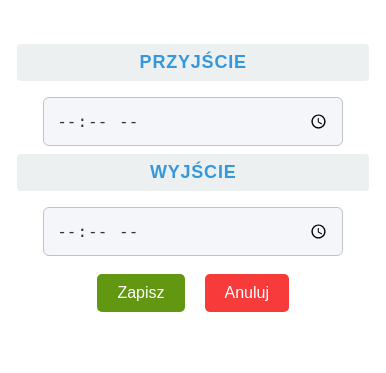
Test case: TimesInput › display error message when no check-in and check-out values were provided and save button was clicked
The width and height of the screenshot is (386, 373).
Click the button with test id "times-input-save-button": (141, 293) [97, 274, 184, 312]
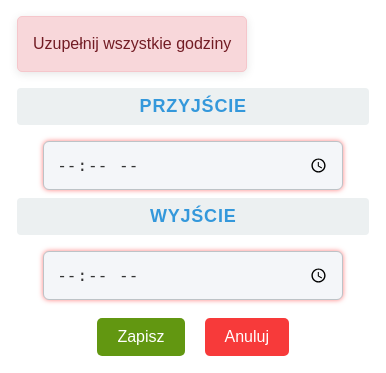
Check: the element with test id "times-input-error" is shown, box [17, 16, 247, 72]
Check: the element with test id "times-input-error" reads "Uzupełnij wszystkie godziny", box [33, 35, 231, 52]
